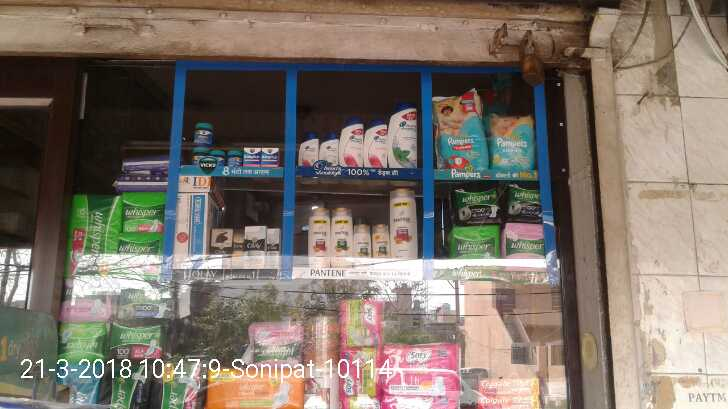beauty: (382, 187, 424, 262), (388, 97, 422, 168), (363, 114, 398, 167), (303, 206, 331, 271), (203, 221, 232, 273), (333, 205, 351, 277), (339, 120, 365, 169), (354, 212, 373, 279), (243, 223, 265, 271), (317, 130, 340, 166)
pharmacy: (432, 87, 492, 178), (70, 190, 123, 286), (488, 112, 538, 170), (111, 188, 167, 237), (113, 311, 161, 355), (112, 239, 166, 275), (446, 227, 502, 260), (59, 320, 104, 360), (500, 184, 545, 222), (501, 222, 545, 260), (449, 184, 495, 219), (244, 145, 278, 166), (188, 113, 210, 143)
